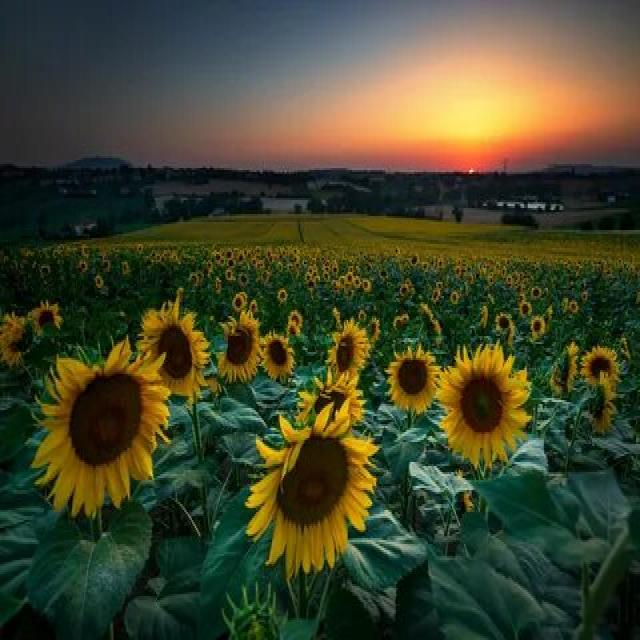sunflower: (34, 338, 174, 528), (249, 402, 383, 584), (429, 342, 534, 469), (139, 295, 209, 400), (385, 339, 443, 416), (322, 314, 369, 396), (216, 308, 259, 390), (260, 324, 298, 384), (585, 373, 616, 438), (581, 342, 616, 394)
